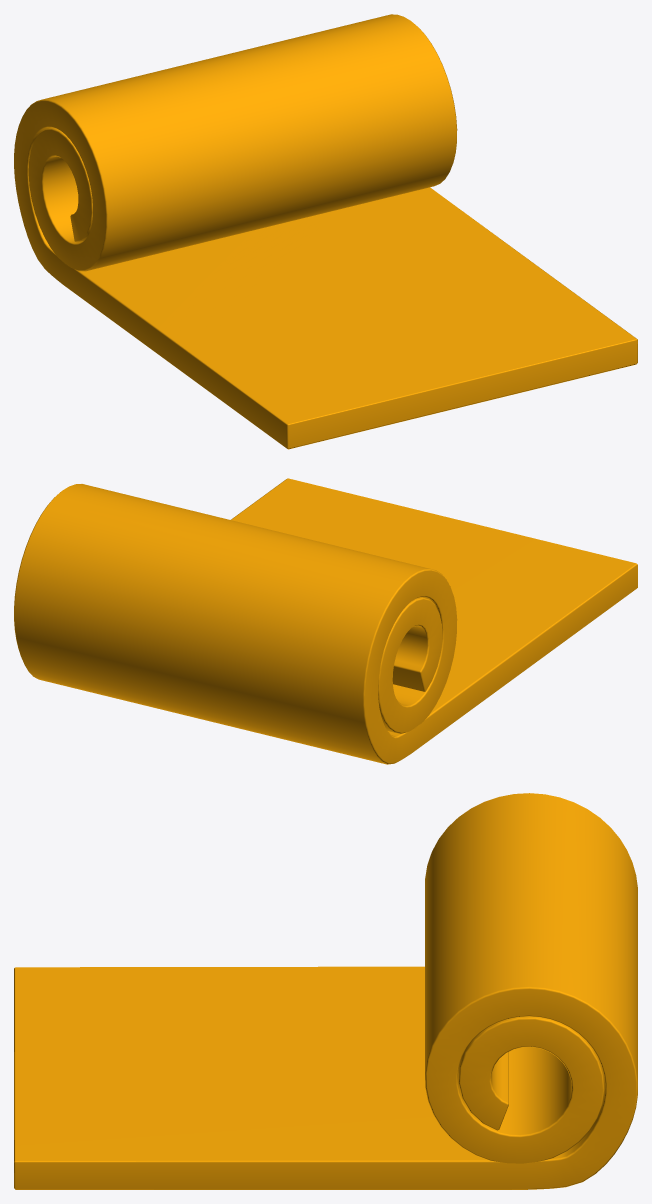
Rendered from Public_18_Yoga_Mat_2.glb.
3 renders of one model, top to bottom at view 1: azimuth 30°, elevation 25°; view 2: azimuth 150°, elevation 25°; view 3: azimuth 270°, elevation 25°, orthographic. The views are drawn at different scales.
Visible parts, largest first — view 1: Public_18_Yoga_Mat_2; view 2: Public_18_Yoga_Mat_2; view 3: Public_18_Yoga_Mat_2.
Boxes of the visible parts, x1,y1,x2,y2 form: Public_18_Yoga_Mat_2: (14,14,637,449); Public_18_Yoga_Mat_2: (14,478,637,764); Public_18_Yoga_Mat_2: (14,793,637,1189).
Bounding box in the file's own units: 2.29 × 1.11 × 3.1.
Materials: 1 (1 with a texture image).
